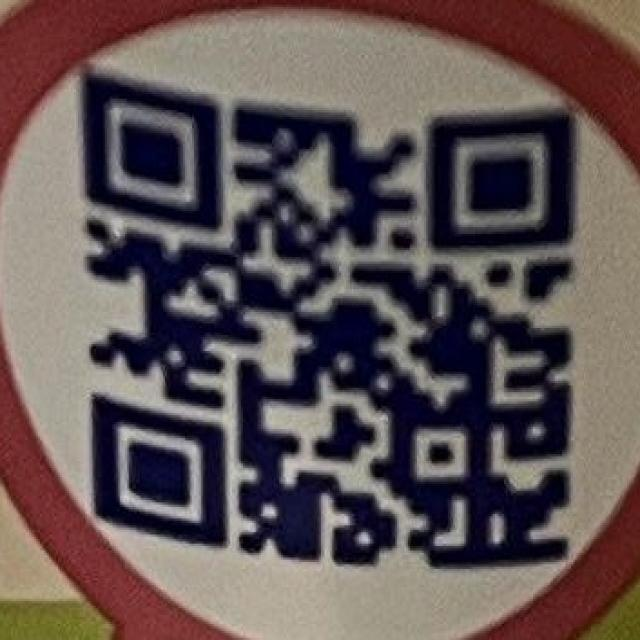QR_CODE: (77, 64, 578, 572)
